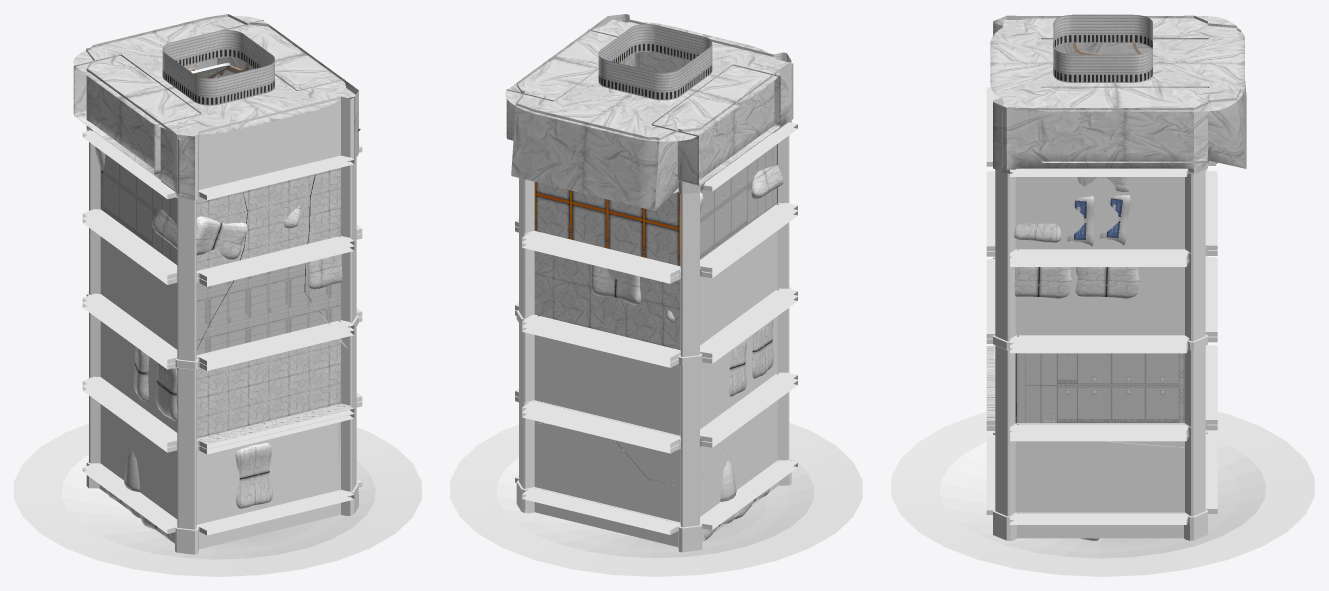
Rendered from ISS_PMM_INT.FBX.
The picture shows the model from 3 angles, left to right: view 1: azimuth 30°, elevation 25°; view 2: azimuth 150°, elevation 25°; view 3: azimuth 270°, elevation 25°; orthographic projection. The views are drawn at different scales.
Visible parts, largest first — view 1: PMM_int; view 2: PMM_int; view 3: PMM_int.
Boxes of the visible parts, x1,y1,x2,y2 form: PMM_int: (14,14,421,576); PMM_int: (450,14,862,576); PMM_int: (891,14,1314,576).
Size of the model in its own units: 0.477 by 0.5883 by 0.4744.
